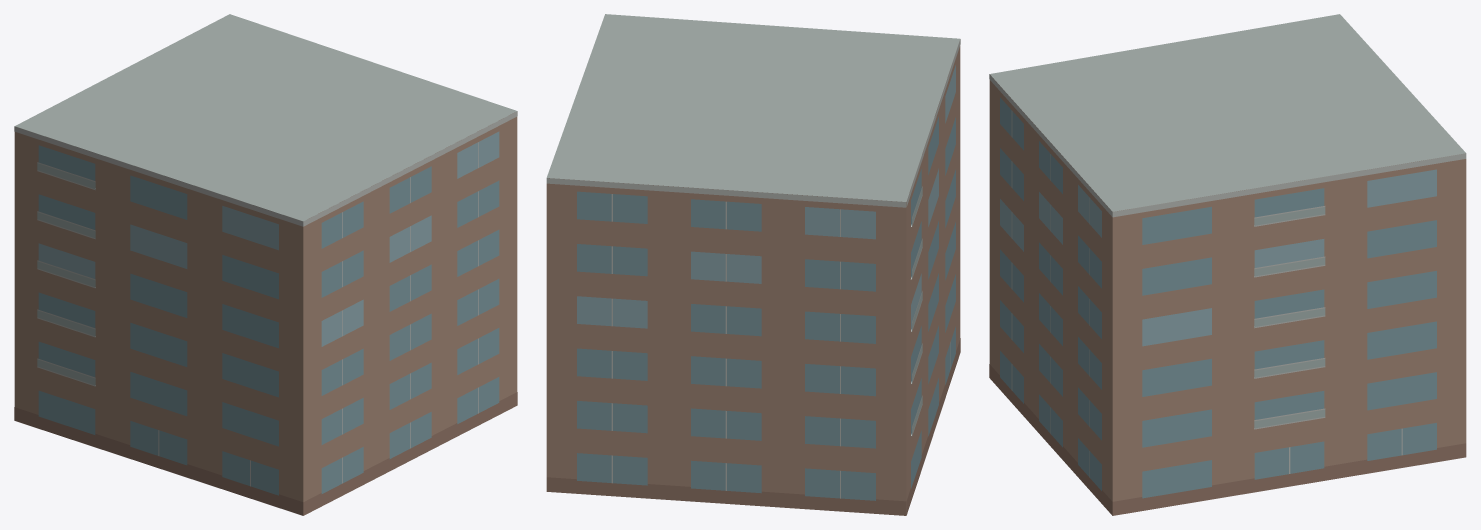
File: survey-upis-32845578.glb
The picture shows the model from 3 angles, left to right: view 1: azimuth 30°, elevation 25°; view 2: azimuth 150°, elevation 25°; view 3: azimuth 270°, elevation 25°; orthographic projection. The views are drawn at different scales.
Parts seen in each view (by area): view 1: survey-upis-32845578.tmp; view 2: survey-upis-32845578.tmp; view 3: survey-upis-32845578.tmp.
Part boxes in pixels (bbox=[...]): survey-upis-32845578.tmp: bbox=[14, 14, 517, 515]; survey-upis-32845578.tmp: bbox=[546, 14, 960, 515]; survey-upis-32845578.tmp: bbox=[989, 14, 1466, 515].
Bounding box in the file's own units: 18.86 × 13.5 × 19.2.
